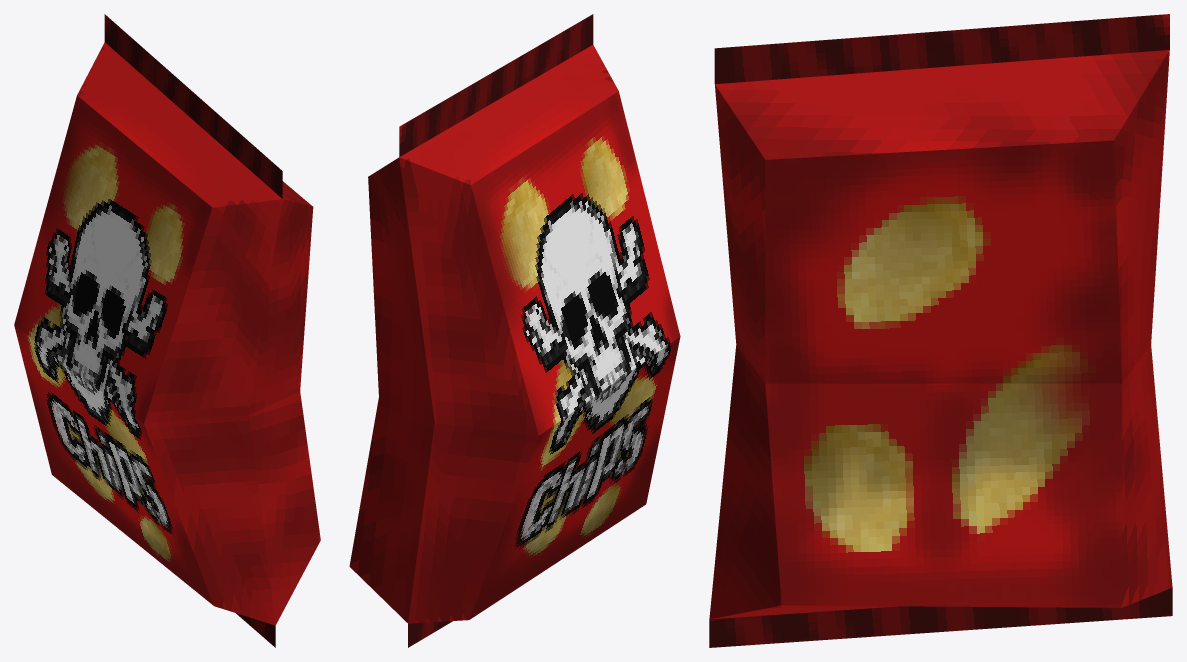
Rendered from chips.glb.
3 renders of one model, left to right at view 1: azimuth 30°, elevation 25°; view 2: azimuth 150°, elevation 25°; view 3: azimuth 270°, elevation 25°, orthographic. The views are drawn at different scales.
Parts seen in each view (by area): view 1: Cube; view 2: Cube; view 3: Cube.
Part boxes in pixels (box(x1,y1,x2,y2)): Cube: box(14, 14, 320, 647); Cube: box(349, 14, 680, 647); Cube: box(709, 14, 1172, 647).
Bounding box in the file's own units: 1.12 × 3.08 × 2.02.
1 material, 1 textured.
